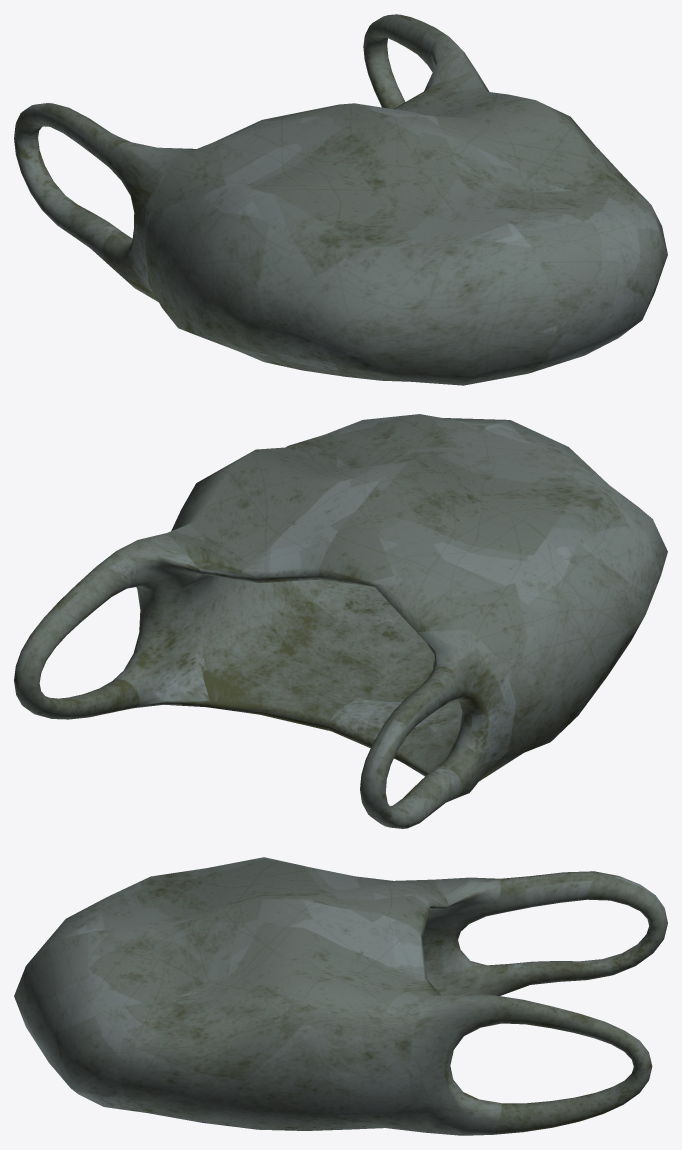
The model's file is bag.glb.
3 views of the same model, one above another, from view 1: azimuth 30°, elevation 25°; view 2: azimuth 150°, elevation 25°; view 3: azimuth 270°, elevation 25° (orthographic). The views are drawn at different scales.
Parts seen in each view (by area): view 1: PlasticBag3; view 2: PlasticBag3; view 3: PlasticBag3.
Part boxes in pixels (x1,y1,x2,y2): PlasticBag3: (14,14,667,385); PlasticBag3: (14,414,667,828); PlasticBag3: (14,857,667,1135).
Size of the model in its own units: 1.31 by 0.6887 by 2.
1 material, 1 textured.
